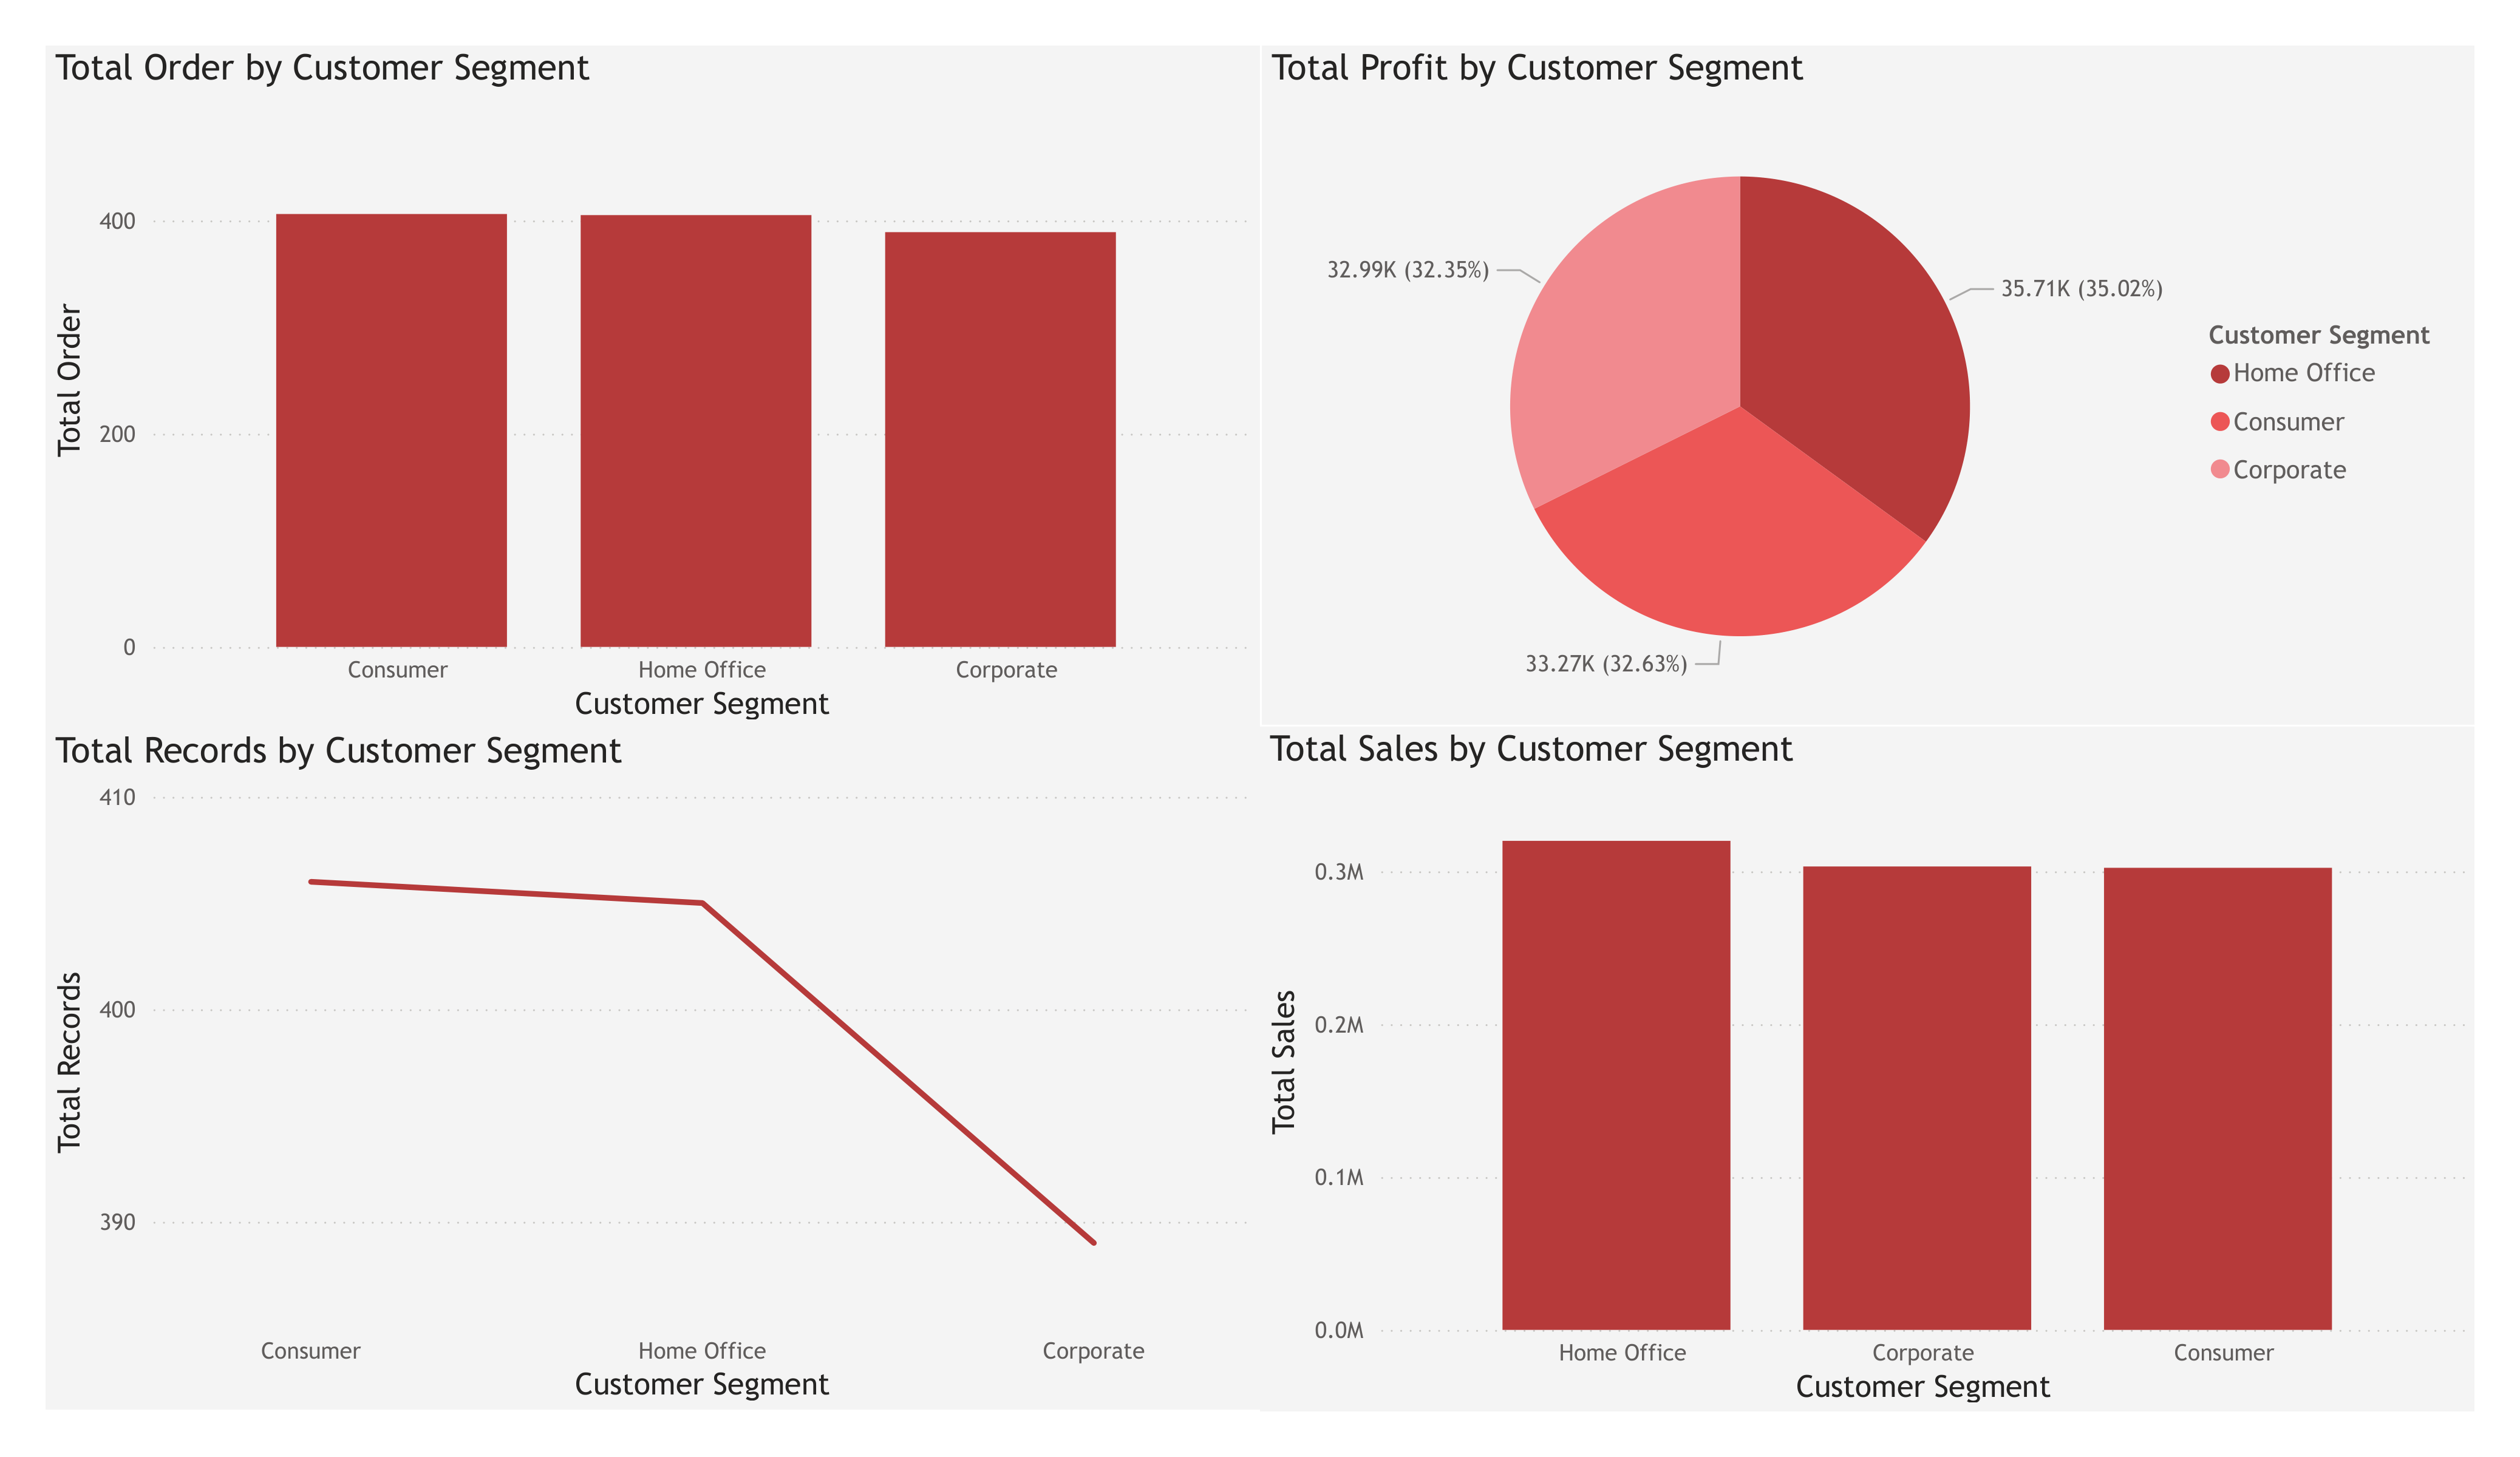

Layout of this report page (visuals, bound fields, positions):
{"tool":"powerbi","page":{"name":"Customer Segments","canvas":[1280,720],"ordinal":4},"visuals":[{"type":"clusteredColumnChart","fields":{"Category":["Sales_Table1.Customer Segment"],"Y":["Measures (2).Total Order"]},"box":[0,0,639.5,360.5],"z":0},{"type":"clusteredColumnChart","fields":{"Category":["Sales_Table1.Customer Segment"],"Y":["Measures (2).Total Sales"]},"box":[639.5,359.3,640.7,360.5],"z":1000},{"type":"pieChart","fields":{"Category":["Sales_Table1.Customer Segment"],"Y":["Measures (2).Total Profit"]},"box":[640.7,0,639.5,358.1],"z":2000},{"type":"lineChart","fields":{"Category":["Sales_Table1.Customer Segment"],"Y":["Measures (2).Total Records"]},"box":[0,360,640,359],"z":3000}]}

Visuals, with their boxes on the page's 1280x720 design canvas (x1, y1, x2, y2). These are canvas units, not pixel positions in the 2520x1457 screenshot, which may show the page scaled, cropped or inside an application window:
clusteredColumnChart - Sales_Table1.Customer Segment x Measures (2).Total Order: detection(0, 0, 640, 360)
clusteredColumnChart - Sales_Table1.Customer Segment x Measures (2).Total Sales: detection(640, 359, 1280, 720)
pieChart - Sales_Table1.Customer Segment x Measures (2).Total Profit: detection(641, 0, 1280, 358)
lineChart - Sales_Table1.Customer Segment x Measures (2).Total Records: detection(0, 360, 640, 719)
